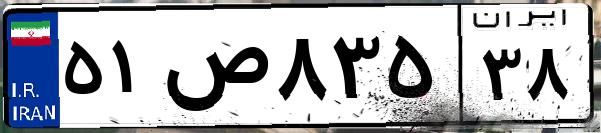1: (110, 28, 158, 98)
3: (330, 28, 385, 110), (475, 38, 525, 113)
5: (385, 28, 445, 110), (57, 26, 110, 100)
8: (270, 28, 330, 110), (525, 38, 570, 115)
ص: (158, 20, 270, 120)
